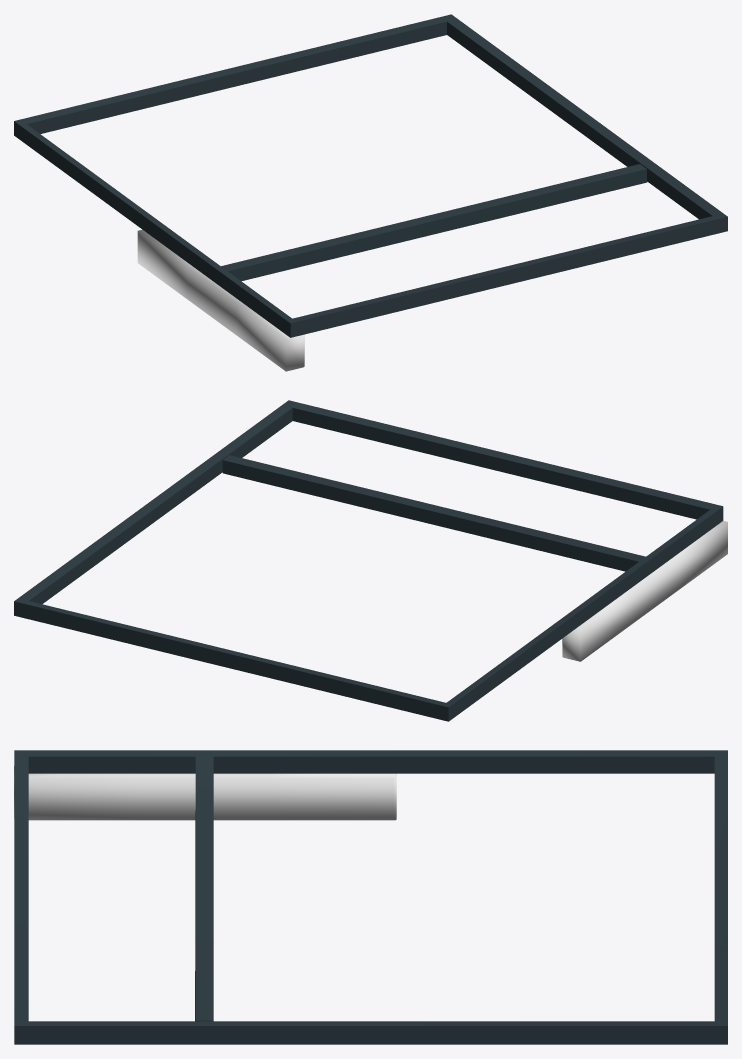
The model's file is BipBop.fbx.
3 views of the same model, one above another, from view 1: azimuth 30°, elevation 25°; view 2: azimuth 150°, elevation 25°; view 3: azimuth 270°, elevation 25° (orthographic). The views are drawn at different scales.
Parts seen in each view (by area): view 1: DetalheTeto, Cube.015; view 2: DetalheTeto, Cube.015; view 3: DetalheTeto, Cube.015.
Boxes of the visible parts, x1,y1,x2,y2 form: DetalheTeto: [14, 14, 727, 337]; Cube.015: [137, 229, 304, 371]; DetalheTeto: [14, 400, 723, 721]; Cube.015: [562, 521, 727, 661]; DetalheTeto: [14, 750, 727, 1044]; Cube.015: [14, 766, 396, 820].
Size of the model in its own units: 95.9 by 9.83 by 104.
